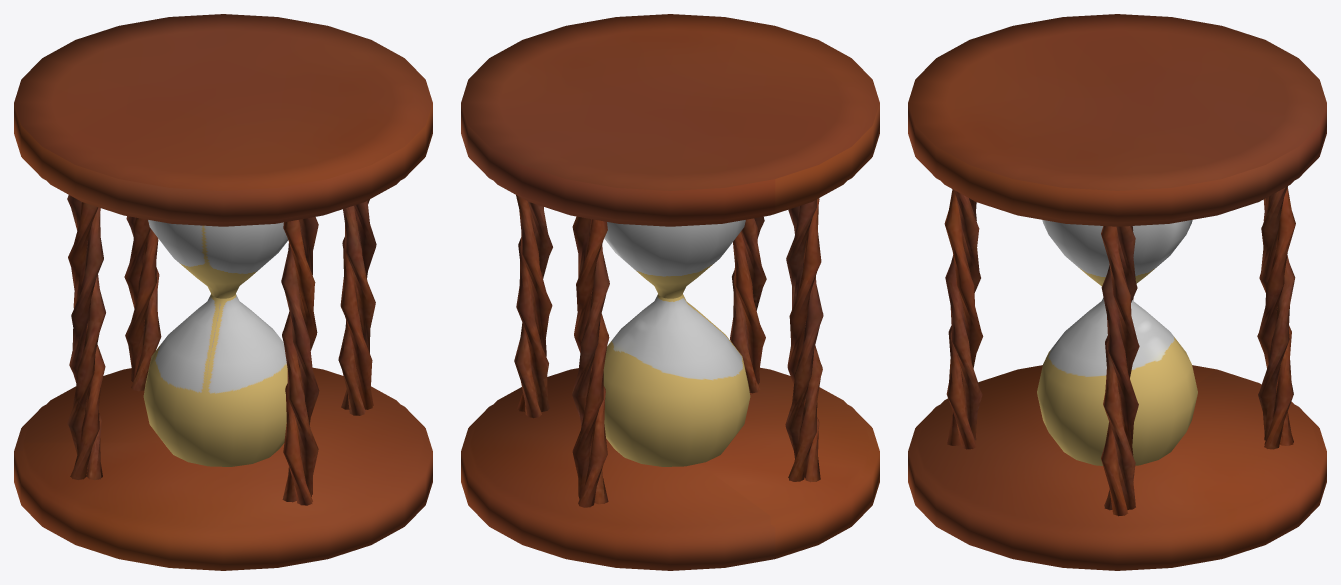
Rendered from Clock (1).fbx.
3 renders of one model, left to right at view 1: azimuth 30°, elevation 25°; view 2: azimuth 150°, elevation 25°; view 3: azimuth 270°, elevation 25°, orthographic.
Parts seen in each view (by area): view 1: Clock; view 2: Clock; view 3: Clock.
Boxes of the visible parts, x1,y1,x2,y2 form: Clock: [14, 14, 432, 570]; Clock: [461, 14, 879, 570]; Clock: [908, 14, 1326, 570].
Size of the model in its own units: 200 by 200 by 200.
Materials: 1 (1 with a texture image).
